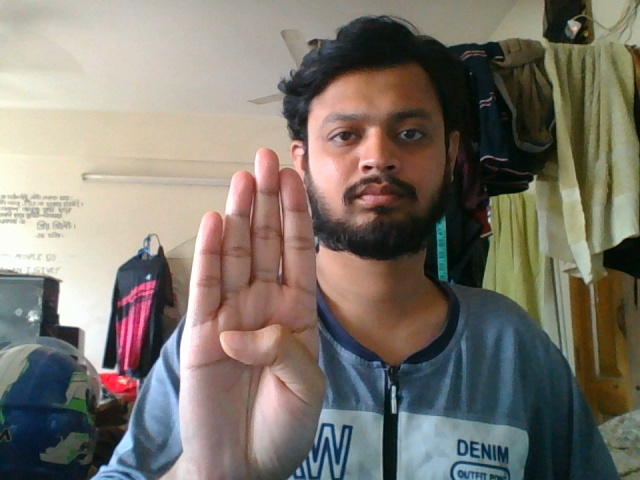ba: (177, 142, 333, 480)
